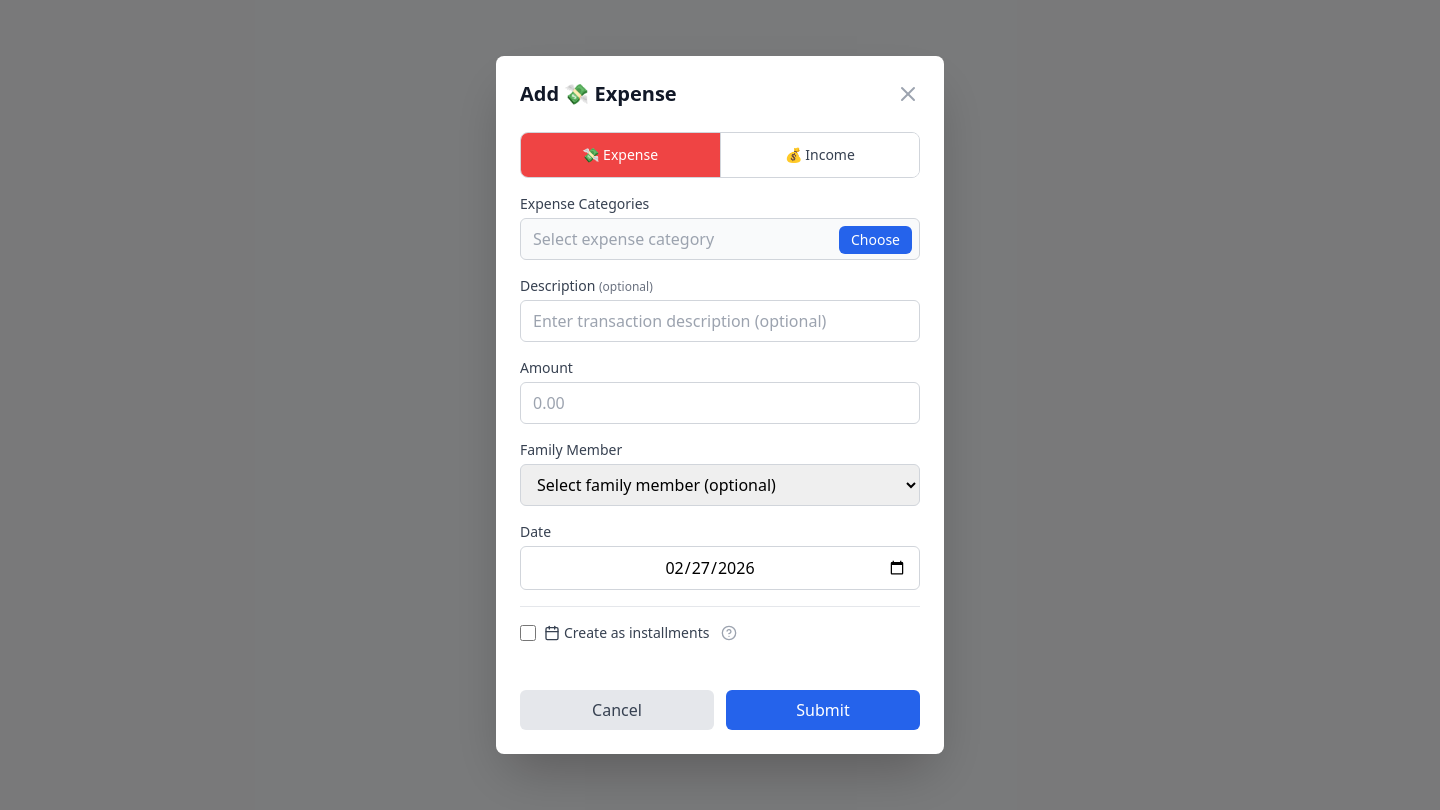
Test case: AddTransaction Stress Tests › Rapid Click Prevention › should disable submit button immediately after first click
The width and height of the screenshot is (1440, 810).
# Fill form
Type "50" into the number field labelled "Amount" at (720, 403), box [520,382,920,424]
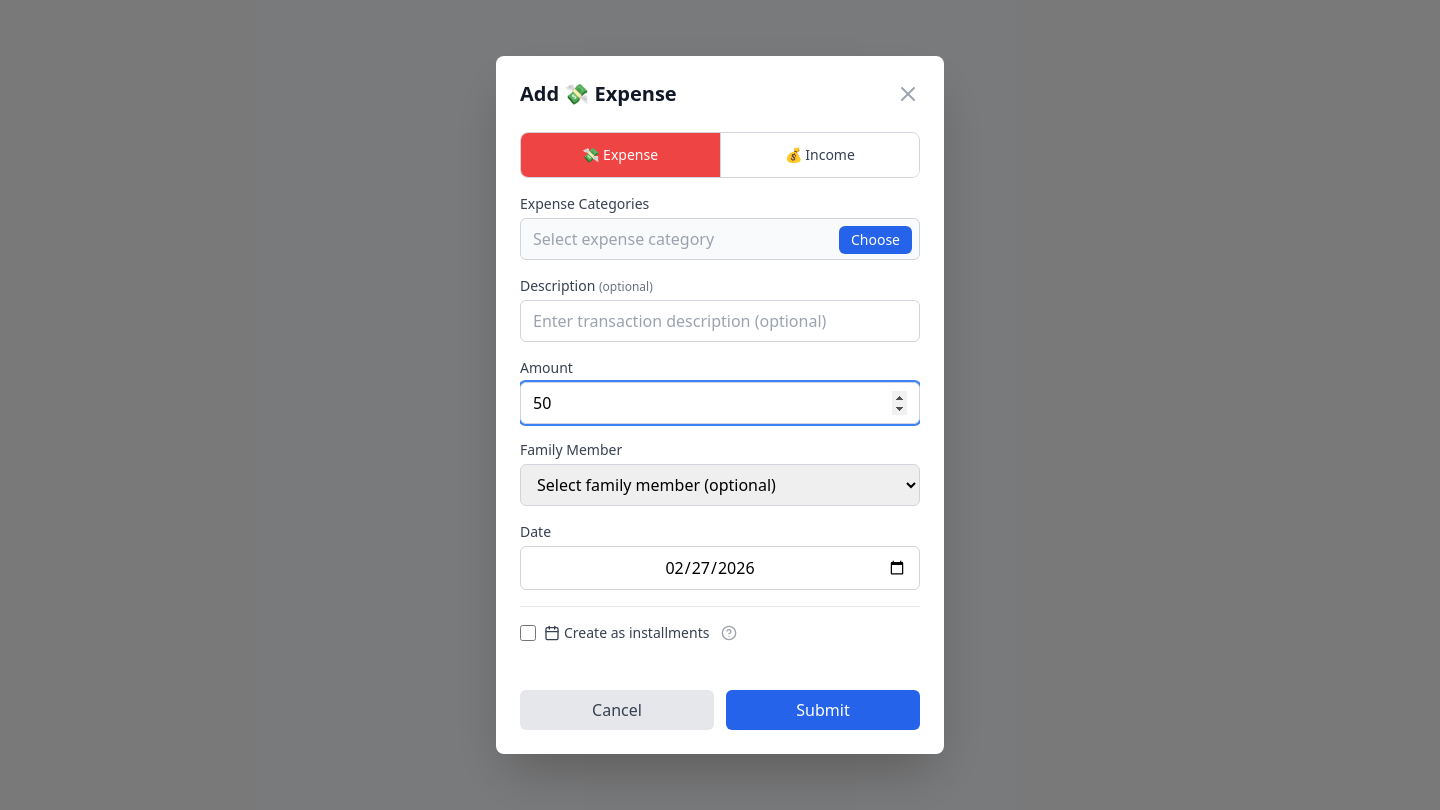
Click the field with placeholder "Select expense category" at (720, 239), box [520,218,920,260]
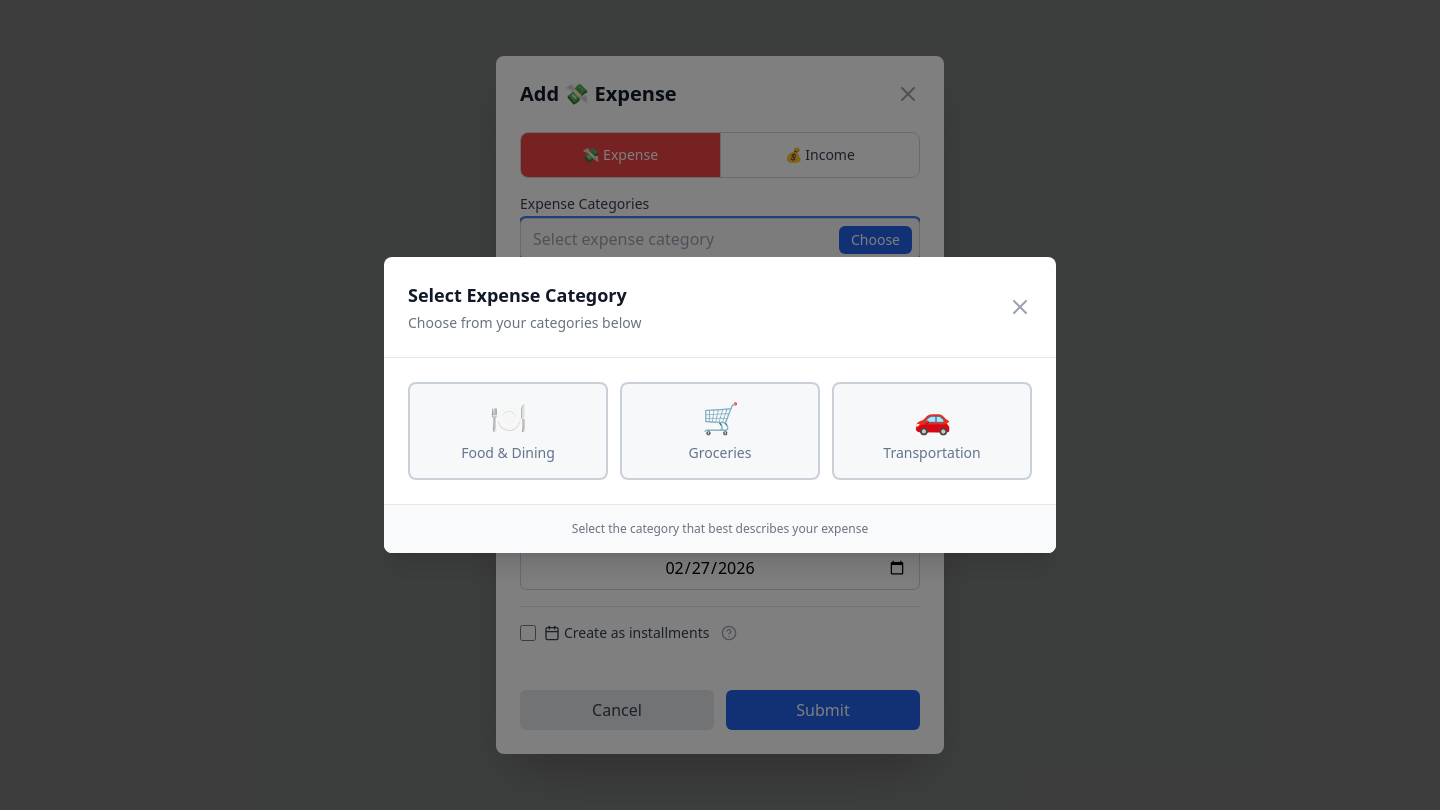
Check: the text "Food & Dining" is shown
Click the text "Food & Dining" at (508, 453), box [461,444,555,462]
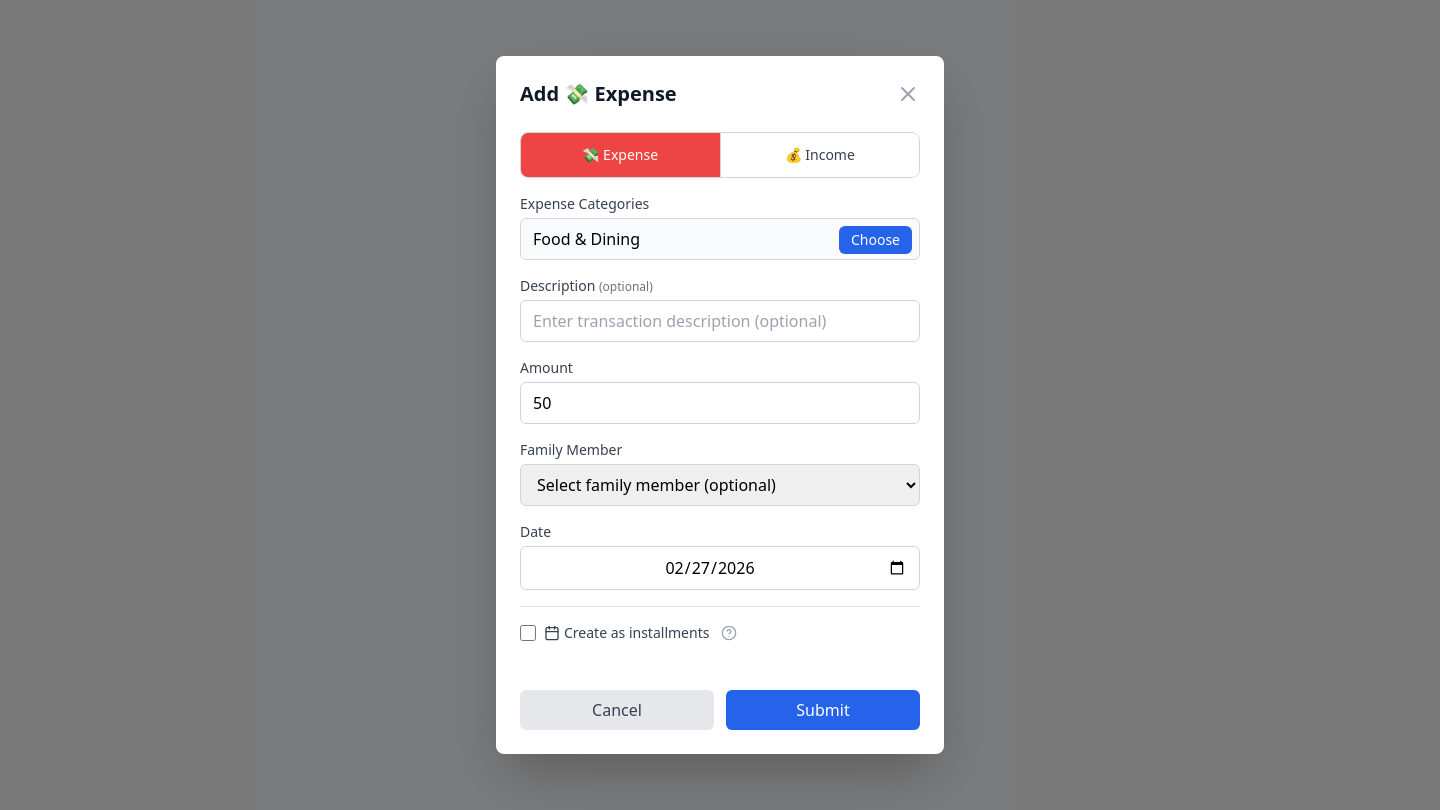
Check: the field with placeholder "Select expense category" holds "Food & Dining", box [520,218,920,260]
# Click submit
Click the button "Submit" at (823, 710), box [726,690,920,730]
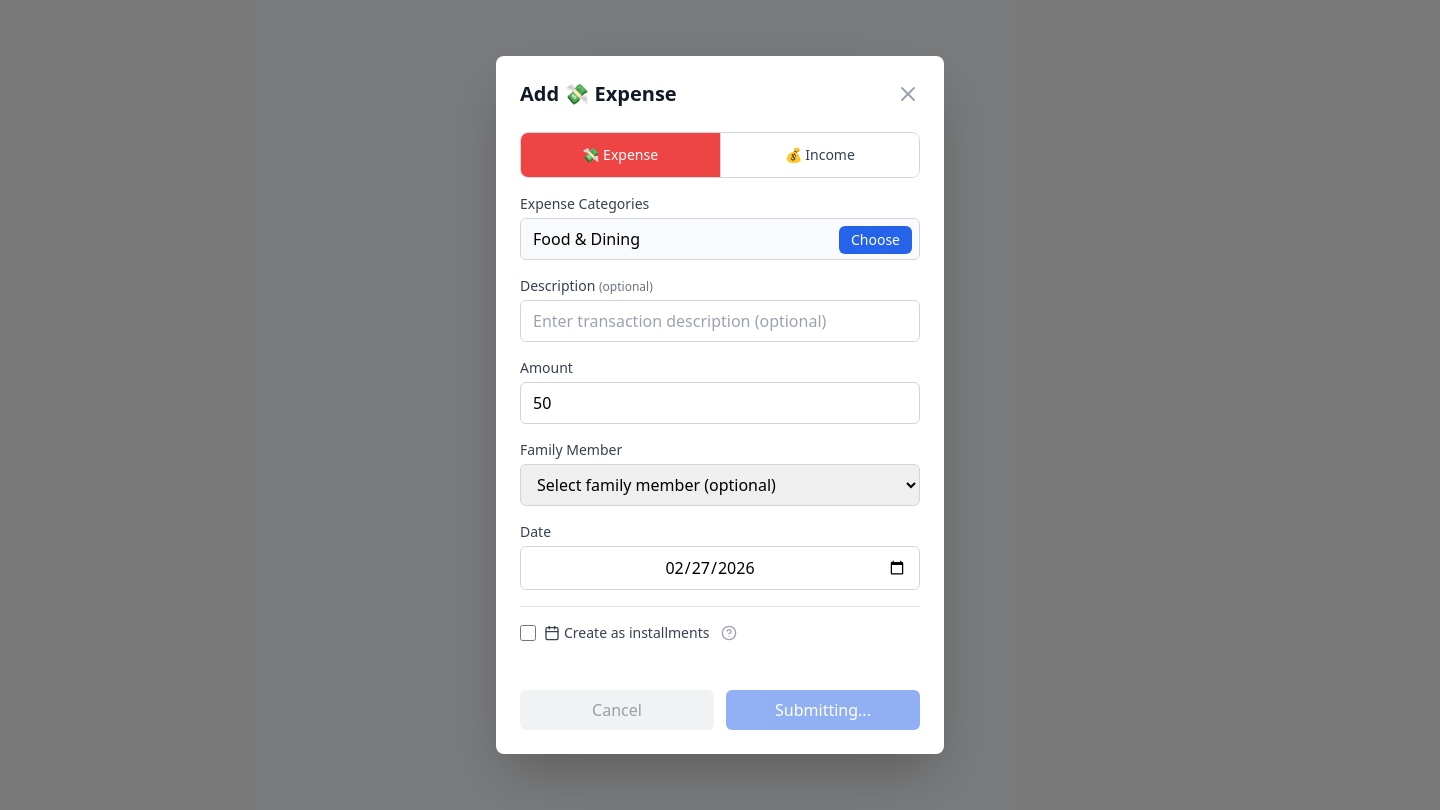
Check: the button "Submitting..." is disabled, box [726,690,920,730]
Check: the button "Submitting..." is shown, box [726,690,920,730]
